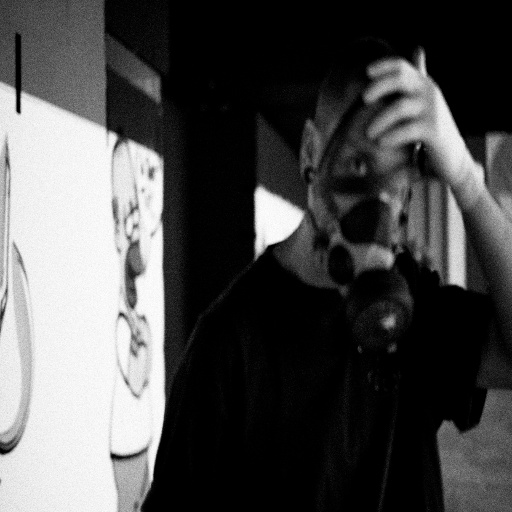hand: (365, 49, 501, 315)
